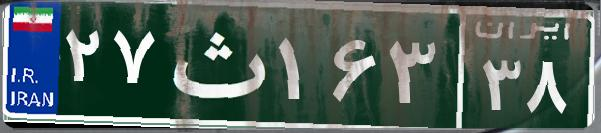1: (273, 28, 330, 110)
2: (57, 26, 110, 107)
3: (385, 28, 445, 110), (475, 38, 525, 113)
6: (330, 28, 385, 110)
7: (110, 28, 158, 105)
8: (525, 38, 570, 115)
ث: (158, 15, 273, 115)
